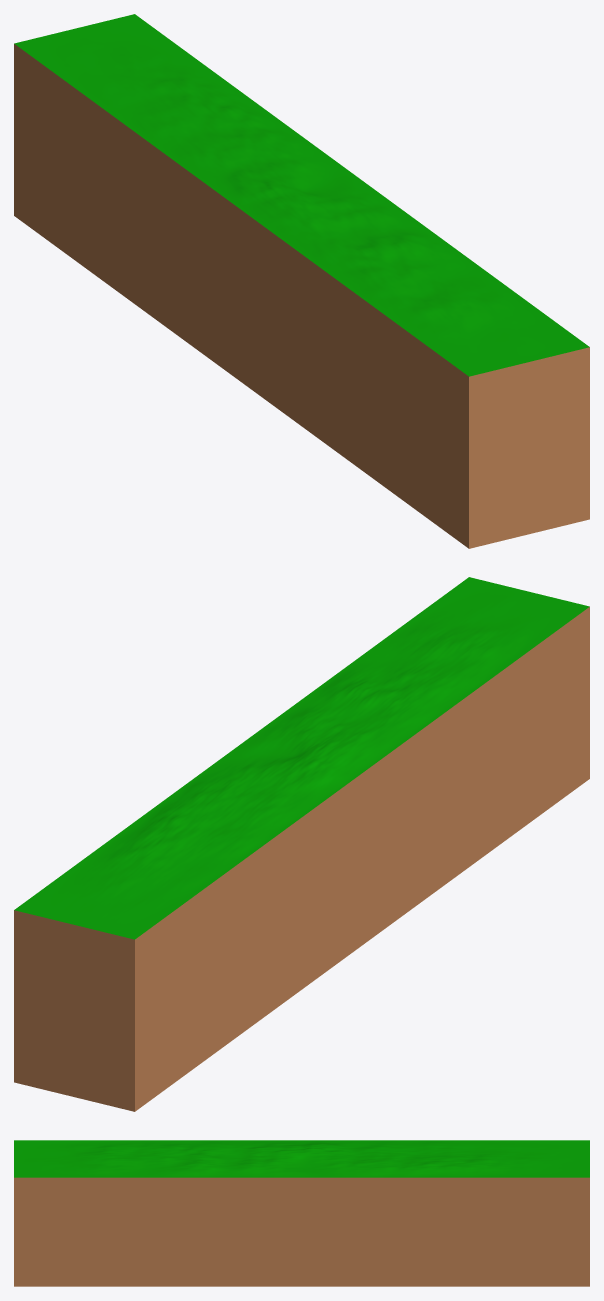
File: Landscape 1.fbx
The picture shows the model from 3 angles, top to bottom: view 1: azimuth 30°, elevation 25°; view 2: azimuth 150°, elevation 25°; view 3: azimuth 270°, elevation 25°; orthographic projection. The views are drawn at different scales.
Parts seen in each view (by area): view 1: Landscape.001, Landscape.011; view 2: Landscape.001, Landscape.011; view 3: Landscape.001, Landscape.011.
Boxes of the visible parts, left/top/right/bottom form: Landscape.001: left=14, top=44, right=589, bottom=548; Landscape.011: left=14, top=14, right=589, bottom=376; Landscape.001: left=14, top=607, right=589, bottom=1111; Landscape.011: left=14, top=577, right=589, bottom=939; Landscape.001: left=14, top=1177, right=589, bottom=1286; Landscape.011: left=14, top=1140, right=589, bottom=1177.
Bounding box in the file's own units: 200 × 284 × 1304.
